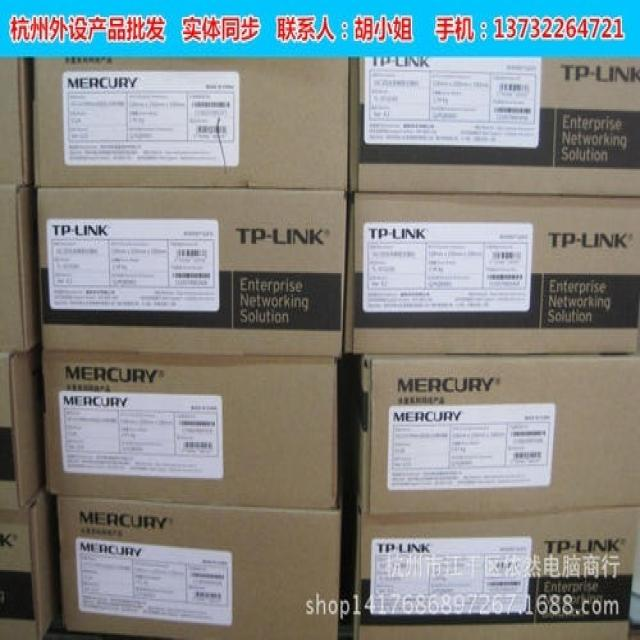box: (36, 191, 347, 354), (345, 193, 639, 354), (348, 355, 639, 515), (43, 349, 338, 506), (31, 58, 358, 190), (341, 497, 637, 638), (57, 497, 340, 638), (355, 58, 639, 193), (0, 484, 59, 638), (0, 344, 44, 513), (0, 181, 40, 353), (0, 60, 33, 184)
